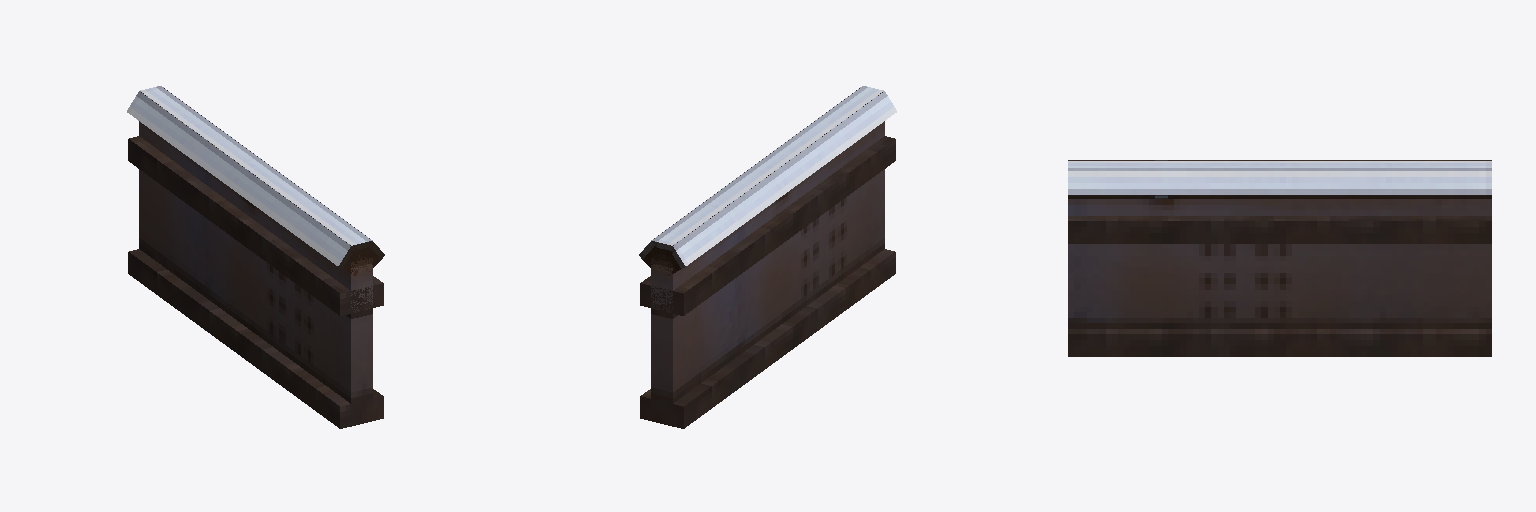
The picture shows the model from 3 angles: view 1: azimuth 30°, elevation 25°; view 2: azimuth 150°, elevation 25°; view 3: azimuth 270°, elevation 25°; orthographic projection.
Parts seen in each view (by area): view 1: cube; view 2: cube; view 3: cube.
Part boxes in pixels (left/top/right/bottom): cube: left=127, top=86, right=384, bottom=428; cube: left=639, top=86, right=896, bottom=428; cube: left=1068, top=160, right=1491, bottom=356.
Size of the model in its own units: 0.1372 by 0.5003 by 1.06.
Materials: 1 (1 with a texture image).